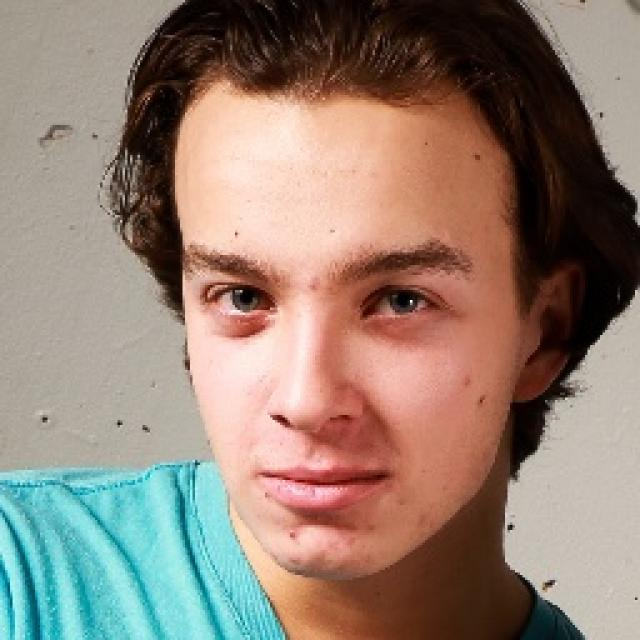earlobe: (509, 258, 587, 402)
